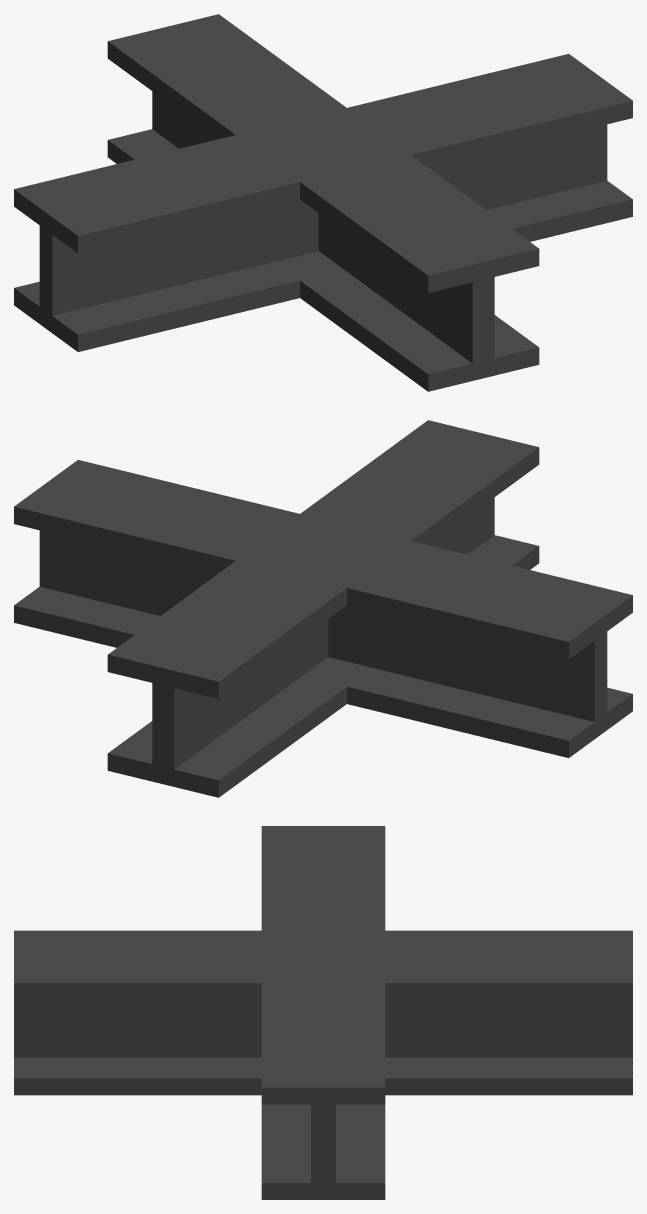
Rendered from T_Traeger_X.obj.
The picture shows the model from 3 angles, top to bottom: view 1: azimuth 30°, elevation 25°; view 2: azimuth 150°, elevation 25°; view 3: azimuth 270°, elevation 25°; orthographic projection. The views are drawn at different scales.
Visible parts, largest first — view 1: Plane.003; view 2: Plane.003; view 3: Plane.003.
Boxes of the visible parts, left/top/right/bottom form: Plane.003: left=14, top=14, right=632, bottom=391; Plane.003: left=14, top=420, right=632, bottom=797; Plane.003: left=14, top=826, right=632, bottom=1199.
Size of the model in its own units: 2 by 0.4 by 2.
1 material, 1 textured.
